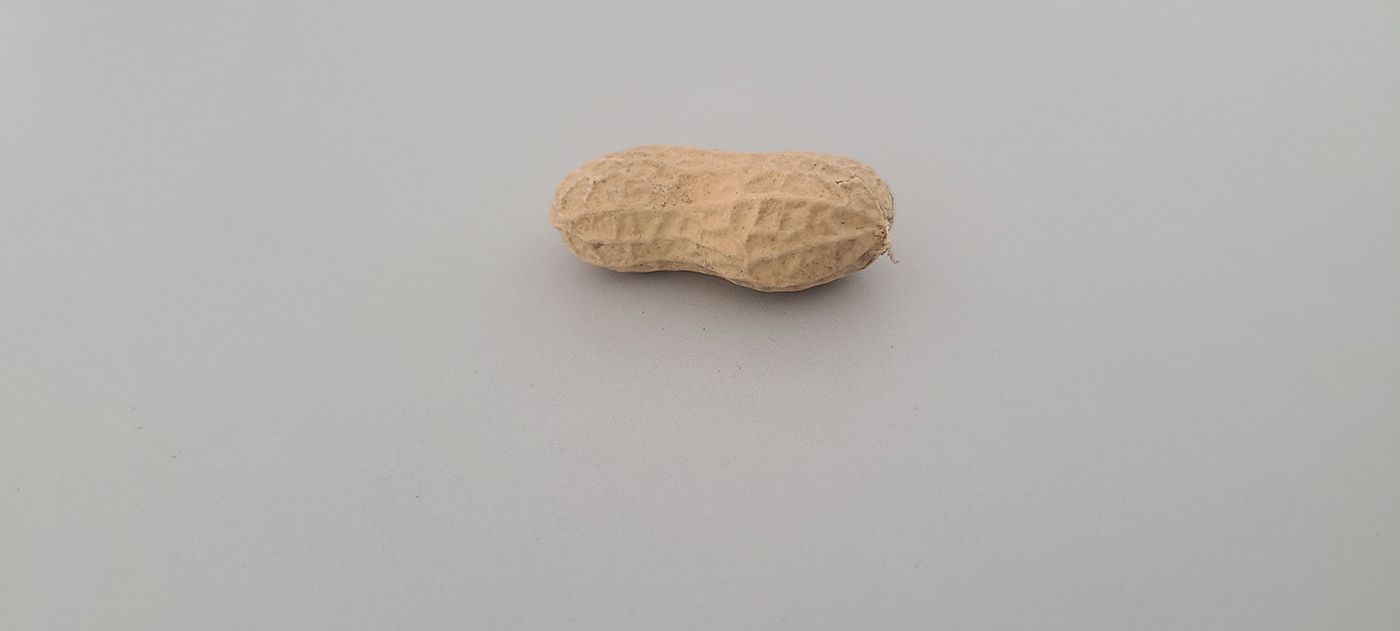h: (550, 142, 898, 292)
